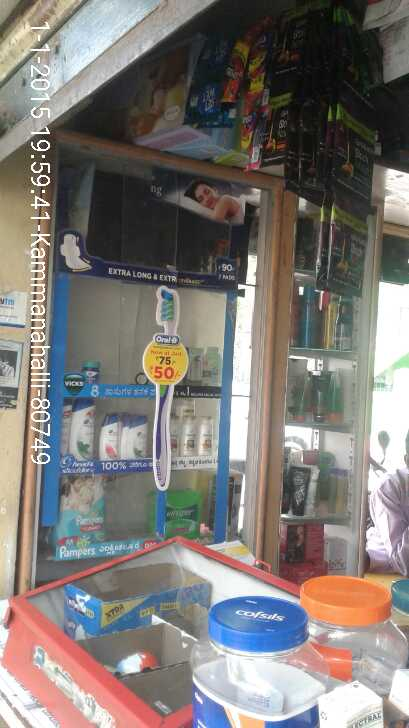vicks: (82, 361, 102, 379)
